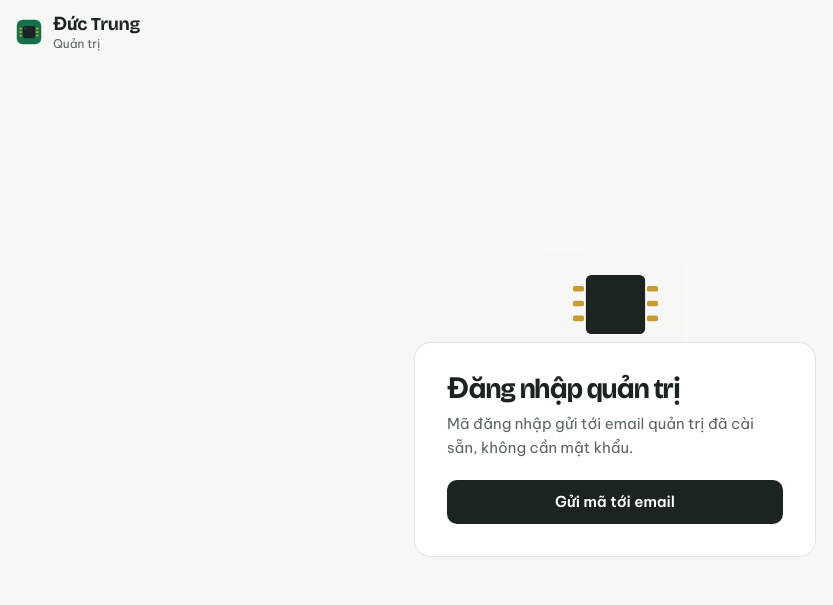
Test: requestCode ném lỗi mạng → hiện lỗi, nút bật lại
Click the button "Gửi mã tới email" at (615, 502), box [447,480,783,524]
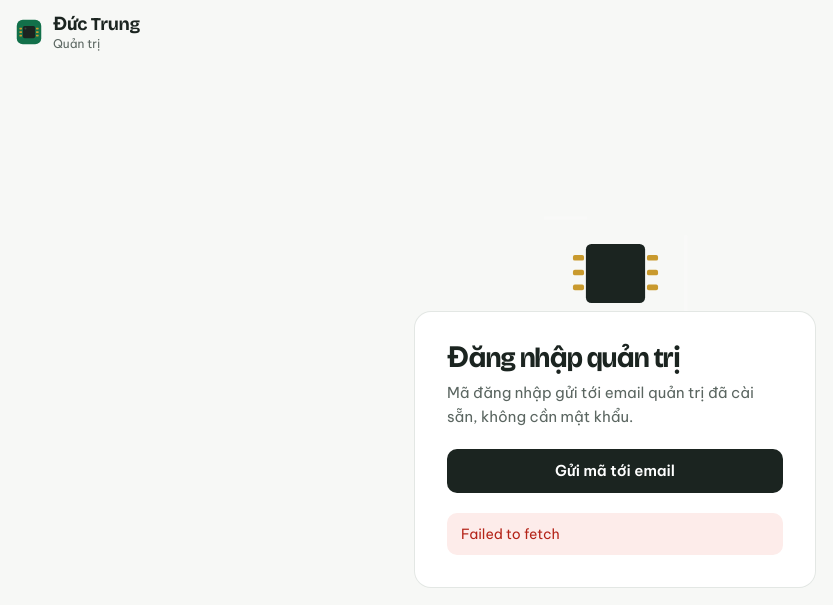
Expected: the button "Gửi mã tới email" is enabled, [447,449,783,493]
Result: the message reads "Failed to fetch" at [461,525,560,543]
